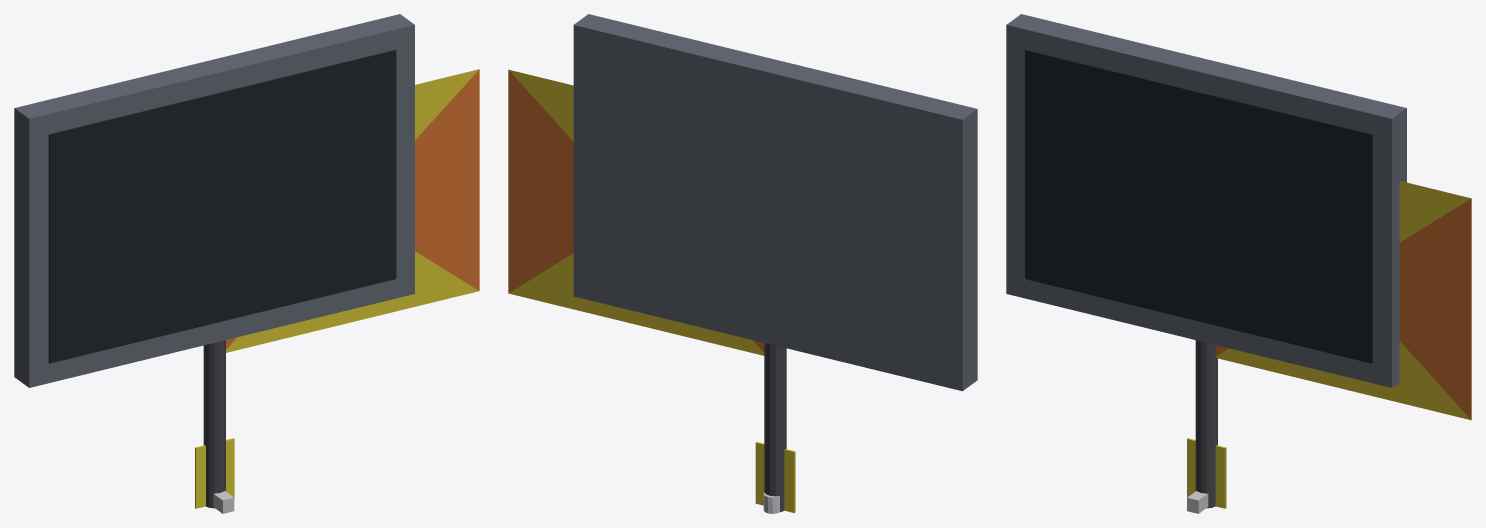
The model's file is officials_props.glb.
The picture shows the model from 3 angles, left to right: view 1: azimuth 30°, elevation 25°; view 2: azimuth 150°, elevation 25°; view 3: azimuth 330°, elevation 25°; orthographic projection.
Visible parts, largest first — view 1: board, flag, card_yellow; view 2: board, flag, card_yellow; view 3: board, flag, card_yellow.
Part boxes in pixels (x1,y1,x2,y2): board: [14, 14, 414, 508]; flag: [226, 69, 479, 352]; card_yellow: [195, 438, 234, 508]; board: [573, 14, 977, 512]; flag: [508, 69, 764, 355]; card_yellow: [755, 442, 795, 512]; board: [1006, 14, 1406, 508]; flag: [1216, 181, 1471, 420]; card_yellow: [1187, 438, 1226, 508].
Bounding box in the file's own units: 0.712 × 0.65 × 0.0575.
